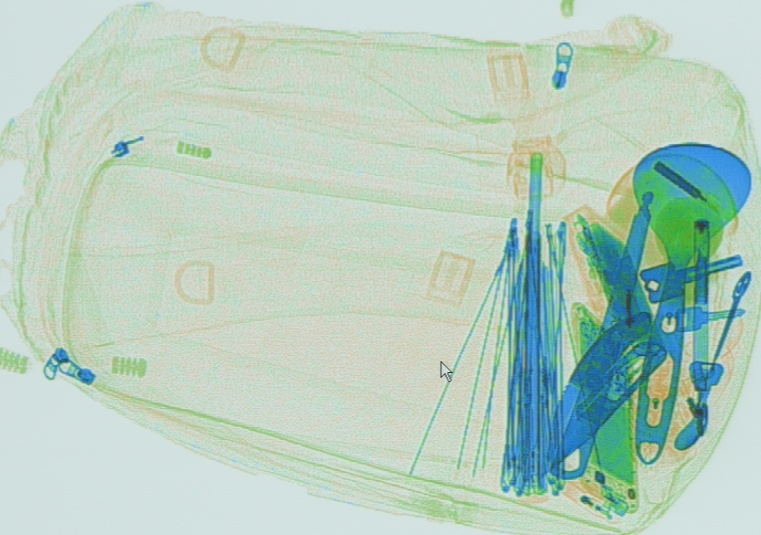knife: (535, 308, 654, 472)
lighter: (543, 466, 628, 521)
